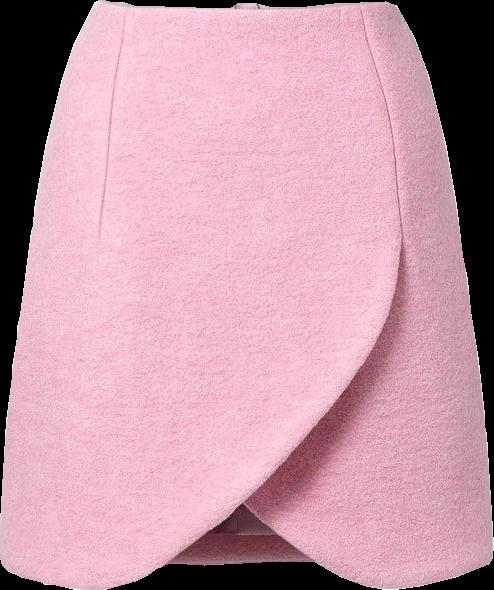Hemline: (0, 9, 405, 589), (242, 501, 493, 589)
Waistline: (93, 0, 396, 14)
